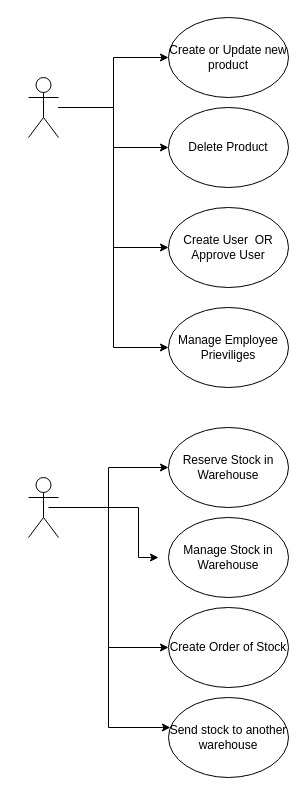
Some shapes in this 306 by 795 pixel diagram are drawn without their labels. The box of each missing label's shape, as (x1, y1, x2, y2) in pixels:
Admin: (28, 76, 58, 138)
Employee: (28, 476, 58, 538)
